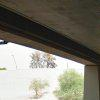Bridge: (7, 7, 89, 83)
